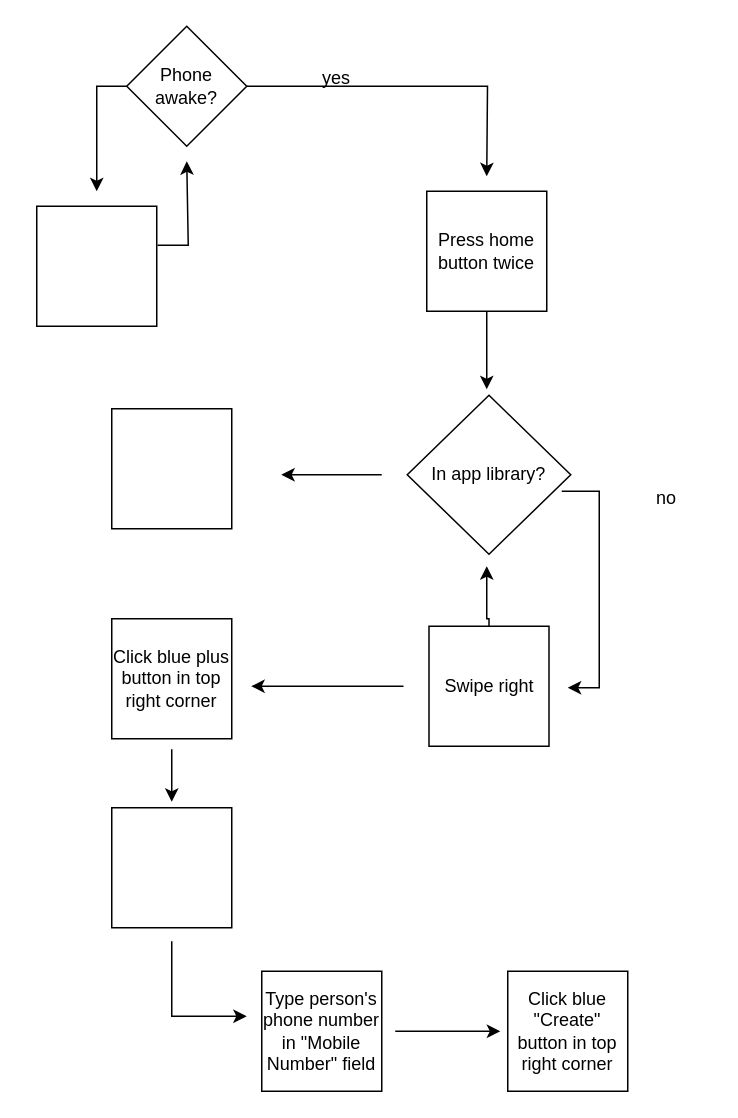
This 738x1118 diagram has some shape labels left out. Here are the shapes that lost their labels. From the top down, the centre of each, then its label:
At point 96,265: "Tap on phone screen".
At point 171,468: "Open phone app".
At point 171,867: "Type name of person in Name field".
